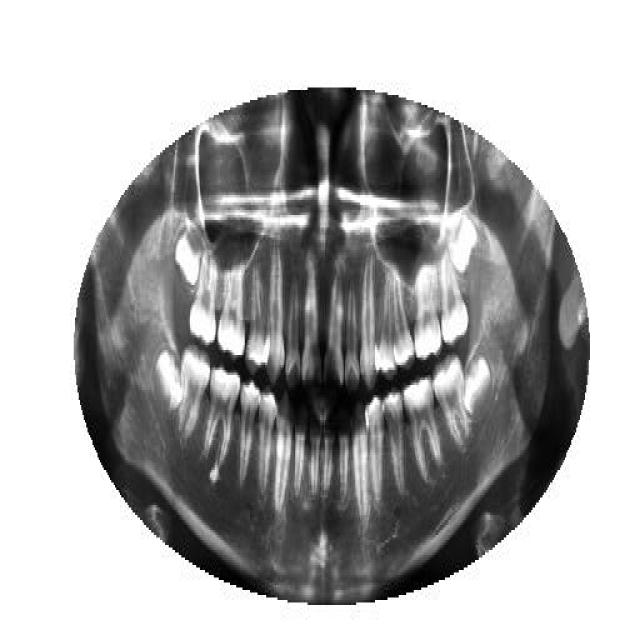Impacted Tooth: (461, 352, 495, 418), (153, 347, 185, 415)
